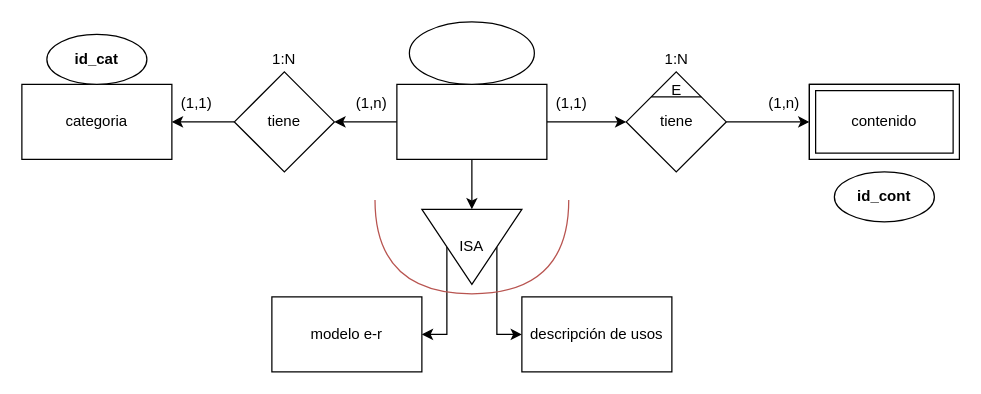
This 981x394 diagram has some shape labels left out. The shapes that lost their labels are listed below. From the top down, each one's centre as x and y in pixels, then its label:
At [471,52]: "id_lvl id_ejercicio".
At [471,121]: "ejercicio".
